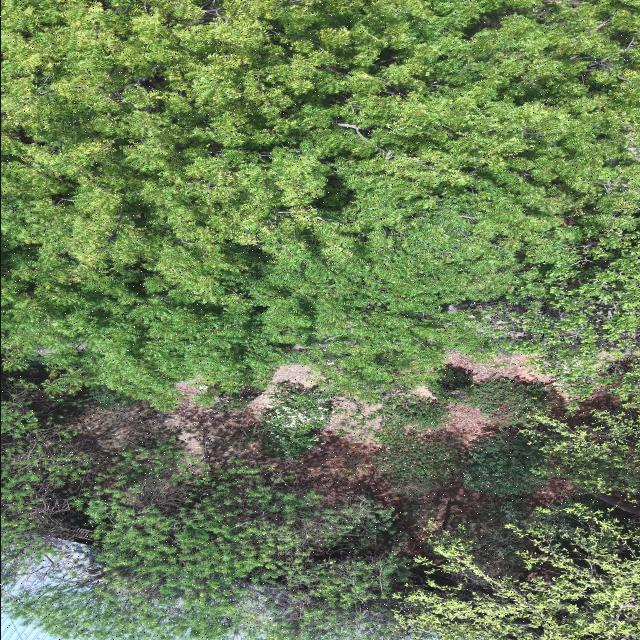DRY_AREA: (76, 365, 407, 511), (75, 392, 386, 500), (76, 365, 318, 462), (77, 365, 318, 462), (77, 382, 272, 462), (76, 401, 267, 463), (397, 480, 502, 556), (284, 436, 388, 500), (410, 480, 488, 552), (74, 403, 175, 453), (420, 481, 500, 528), (447, 352, 552, 386), (446, 351, 553, 384), (446, 351, 552, 384), (249, 365, 319, 413), (322, 397, 380, 444), (434, 404, 497, 447), (321, 397, 378, 443), (570, 388, 620, 423), (532, 480, 576, 506), (272, 365, 319, 387), (414, 387, 435, 399)
ROOFTOP_BUILDING: (10, 536, 101, 594)
VEGETATION_TREE: (1, 0, 639, 639), (1, 0, 639, 406), (3, 378, 639, 639), (1, 378, 409, 639), (4, 443, 407, 639), (87, 452, 406, 638), (398, 412, 639, 639), (398, 502, 639, 639), (1, 374, 104, 584), (522, 410, 639, 496), (367, 395, 465, 496), (373, 425, 465, 495), (254, 383, 332, 458), (464, 434, 545, 495), (461, 378, 555, 427), (369, 396, 446, 431), (471, 495, 531, 533), (191, 386, 259, 411), (430, 367, 472, 402), (87, 386, 135, 408)
